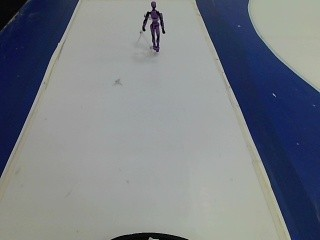pedestrian: (136, 0, 167, 54)
